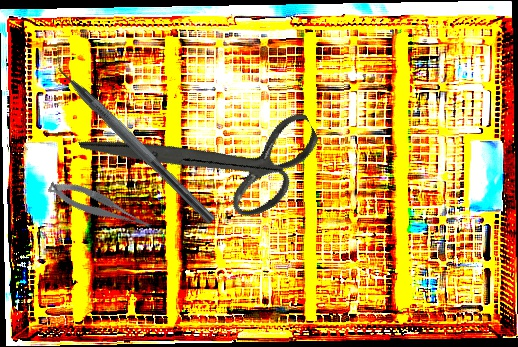Chopper: (39, 42, 228, 226)
Iris Scissors: (77, 40, 337, 274)
Micro Scissor: (45, 170, 155, 244)
